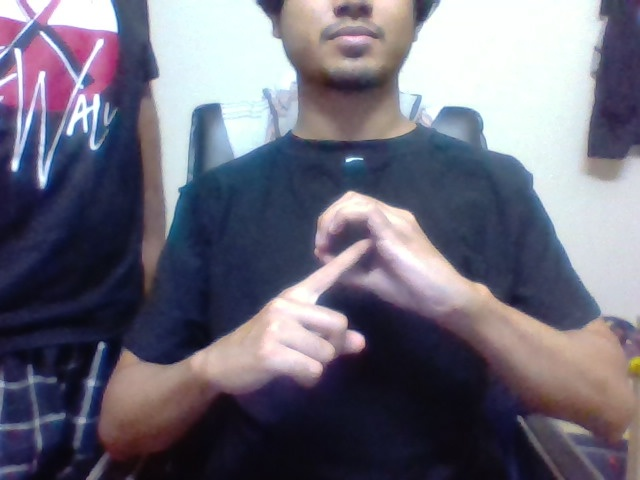Q: (317, 212, 389, 294)
